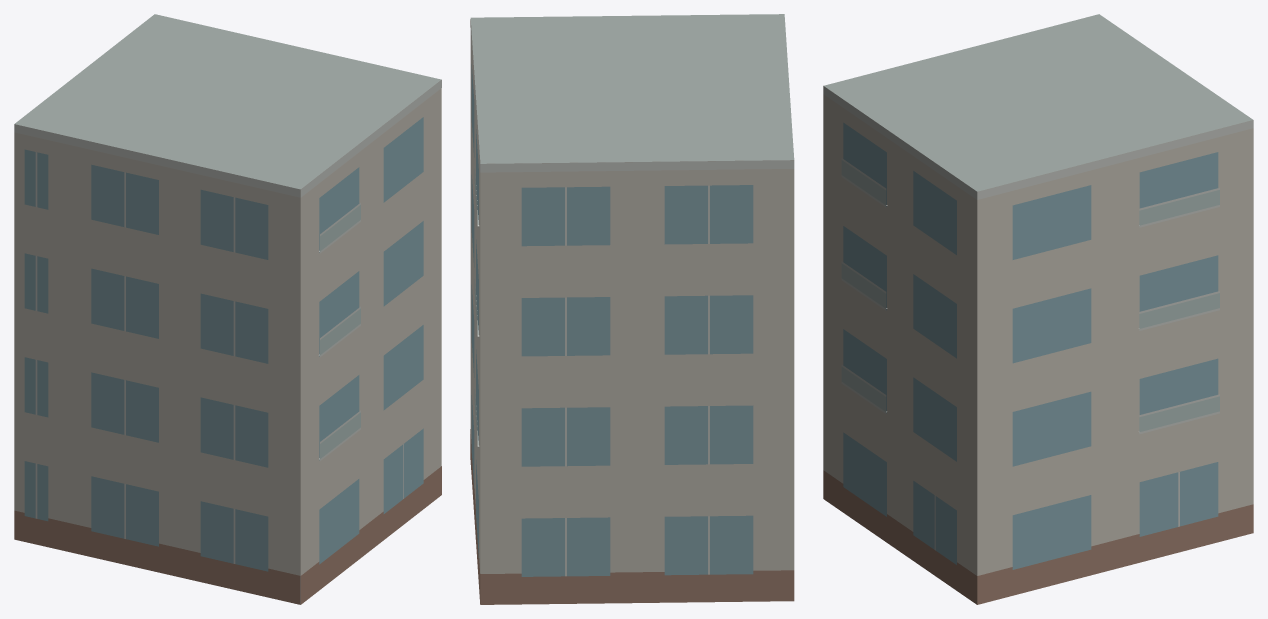
The model's file is residential-3f6ab07b-1acf-4a48-be84-b0fe99992638.glb.
3 renders of one model, left to right at view 1: azimuth 30°, elevation 25°; view 2: azimuth 150°, elevation 25°; view 3: azimuth 270°, elevation 25°, orthographic. The views are drawn at different scales.
Parts seen in each view (by area): view 1: residential-3f6ab07b-1acf-4a48-be84-b0fe99992638.tmp; view 2: residential-3f6ab07b-1acf-4a48-be84-b0fe99992638.tmp; view 3: residential-3f6ab07b-1acf-4a48-be84-b0fe99992638.tmp.
Boxes of the visible parts, x1=… form: residential-3f6ab07b-1acf-4a48-be84-b0fe99992638.tmp: x1=14, y1=14, x2=441, y2=604; residential-3f6ab07b-1acf-4a48-be84-b0fe99992638.tmp: x1=470, y1=14, x2=794, y2=604; residential-3f6ab07b-1acf-4a48-be84-b0fe99992638.tmp: x1=823, y1=14, x2=1253, y2=604.
Bounding box in the file's own units: 11.26 × 12.2 × 11.52.
